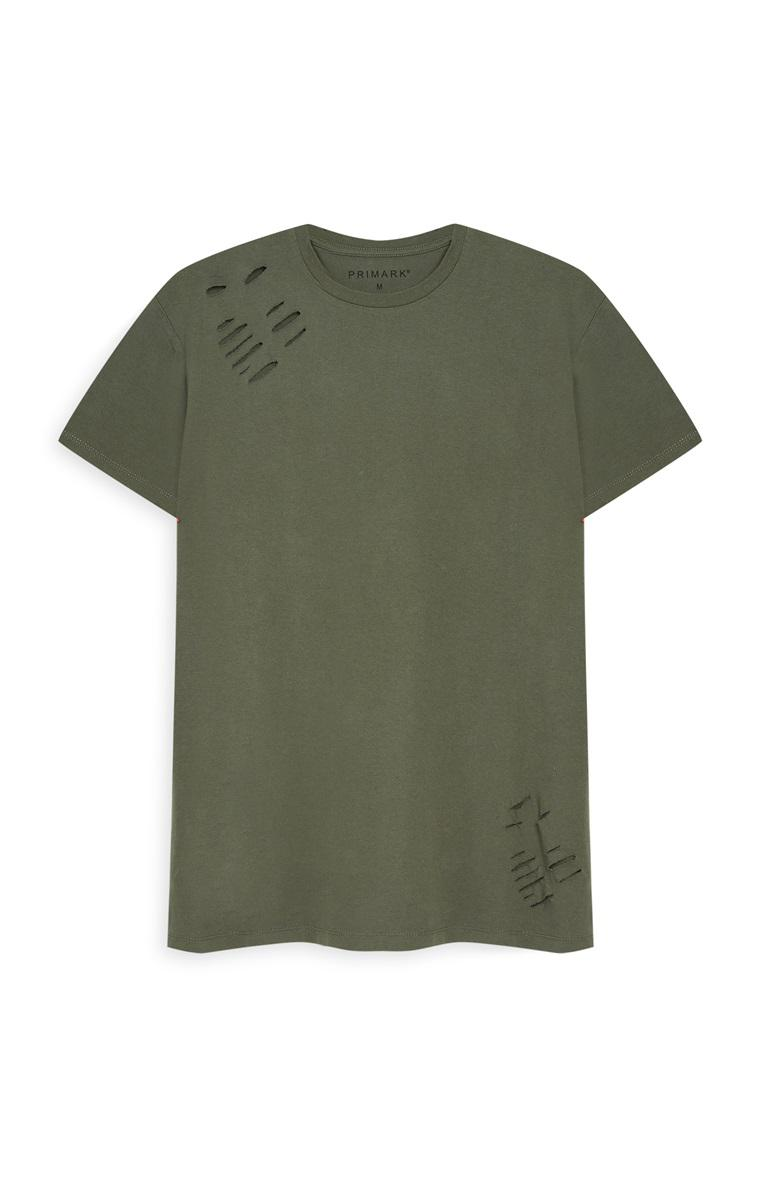teeshirt: (29, 190, 732, 1038)
